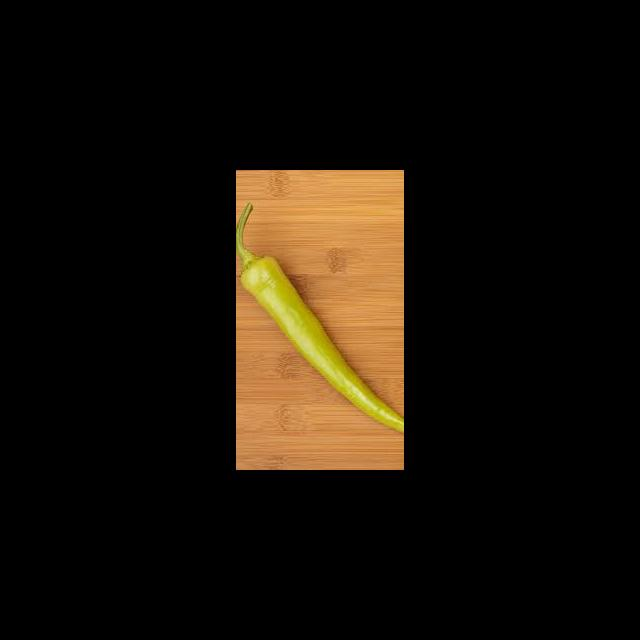chili_pepper: (236, 203, 404, 434)
